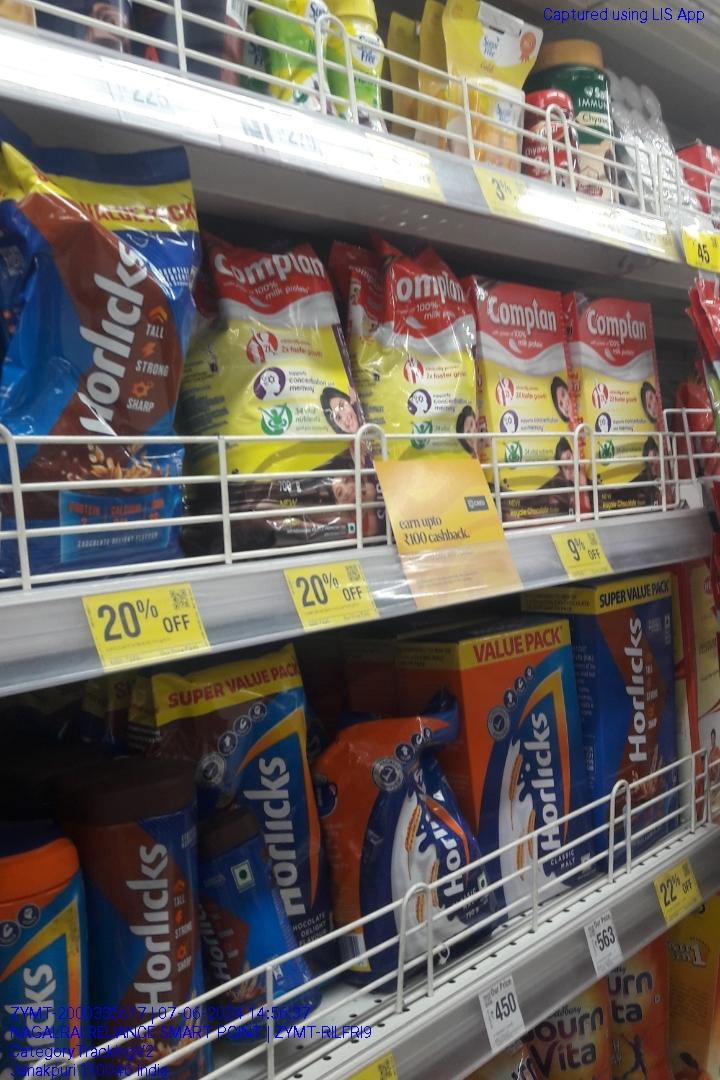COMPLAN_CHOCOLATE_500_GMS_PACK: (482, 280, 572, 520), (580, 286, 664, 516)
COMPLAN_RC_POUCH_700_GMS_12: (210, 233, 368, 553), (377, 245, 473, 466)
HORLICK_CHOCOLATE_500_G_JAR: (92, 770, 211, 1080)
HORLICK_CHOCOLATE_750_G_POUCH: (0, 143, 193, 565)
